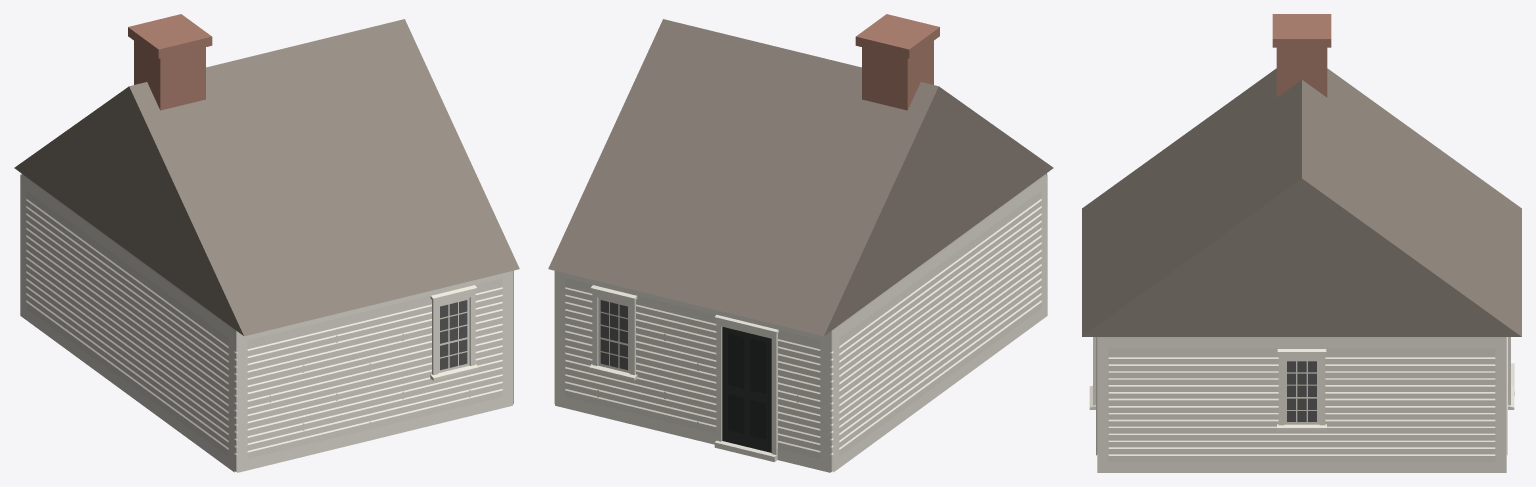
Rendered from recon_1835_blk_washington_wells_d3_05__inferred_1835.glb.
3 views of the same model, side by side, from view 1: azimuth 30°, elevation 25°; view 2: azimuth 150°, elevation 25°; view 3: azimuth 270°, elevation 25° (orthographic). The views are drawn at different scales.
Visible parts, largest first — view 1: recon_1835_blk_washington_wells_d3_05__inferred_1835; view 2: recon_1835_blk_washington_wells_d3_05__inferred_1835; view 3: recon_1835_blk_washington_wells_d3_05__inferred_1835.
Boxes of the visible parts, box(x1,y1,x2,y2) form: recon_1835_blk_washington_wells_d3_05__inferred_1835: box(14, 14, 519, 472); recon_1835_blk_washington_wells_d3_05__inferred_1835: box(548, 14, 1053, 472); recon_1835_blk_washington_wells_d3_05__inferred_1835: box(1082, 14, 1521, 472).
Size of the model in its own units: 5.21 by 6.17 by 7.31.
